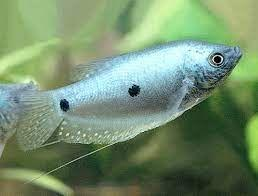Gourami: (5, 39, 243, 191)
